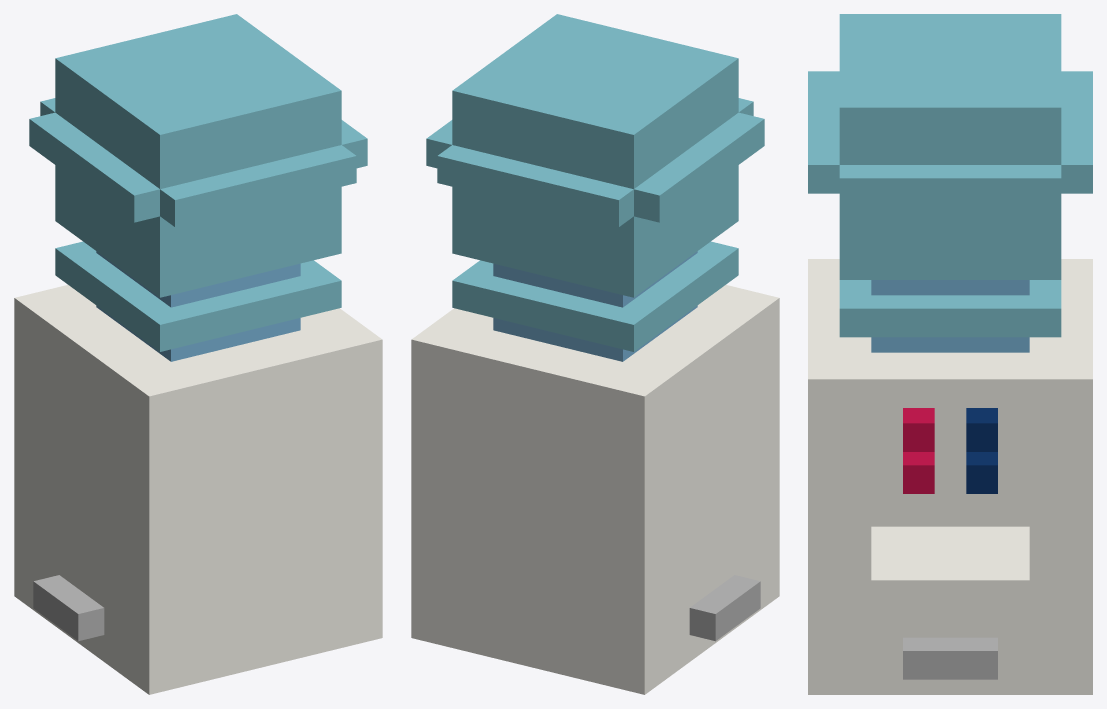
Rendered from cooler_water.obj.
3 views of the same model, side by side, from view 1: azimuth 30°, elevation 25°; view 2: azimuth 150°, elevation 25°; view 3: azimuth 270°, elevation 25° (orthographic). The views are drawn at different scales.
Bounding box in the file's own units: 1.1 × 2 × 0.9.
Materials: 1 (1 with a texture image).
